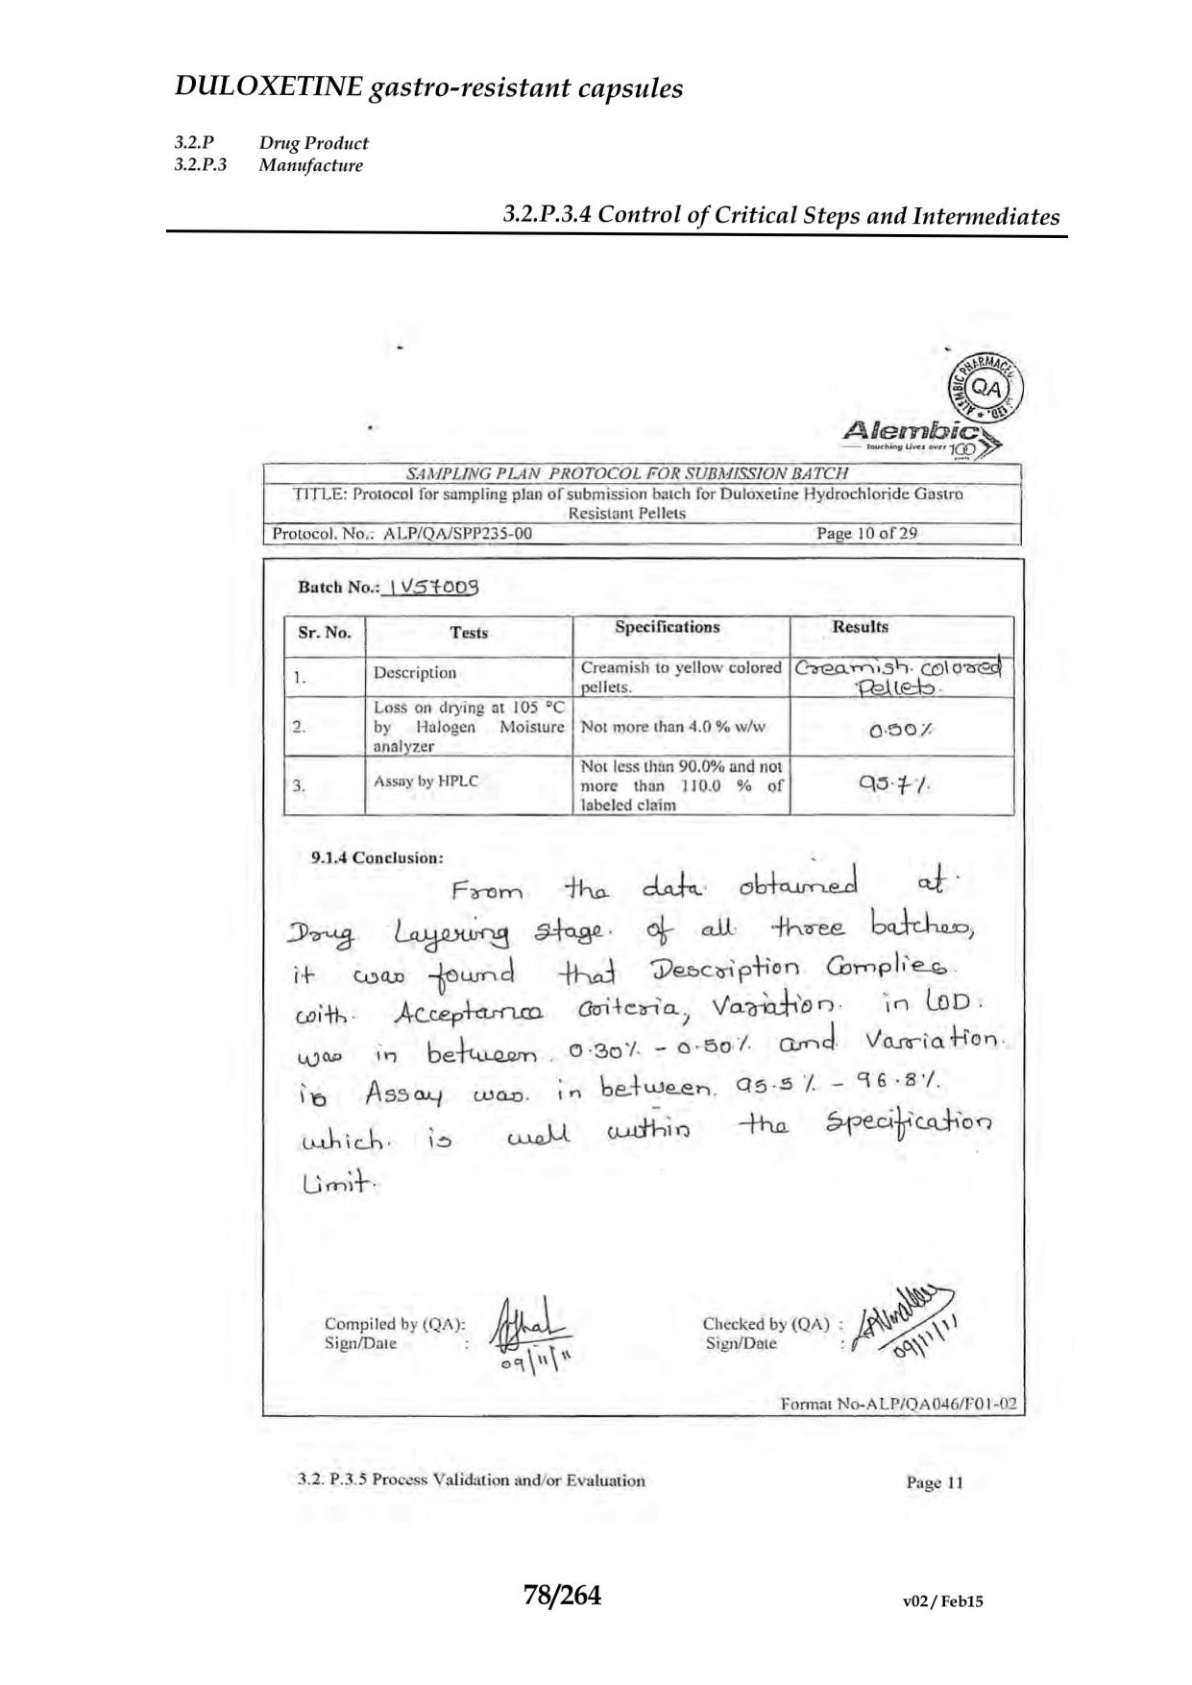full_lined: (283, 614, 1017, 818)
partial_lined_merged_cells: (262, 461, 1023, 546)
